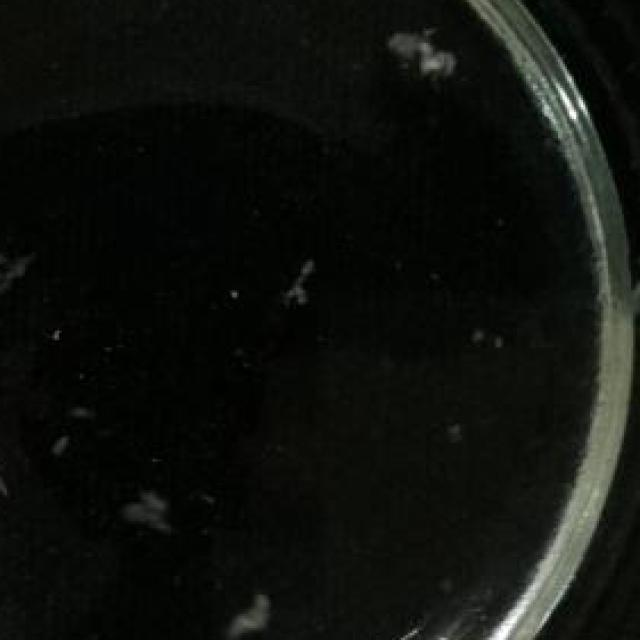Microplastic: (362, 7, 465, 83), (214, 578, 283, 640), (260, 240, 319, 310), (128, 476, 178, 542), (0, 428, 27, 497), (0, 228, 34, 281)
